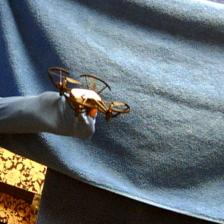drone: (47, 66, 130, 122)
